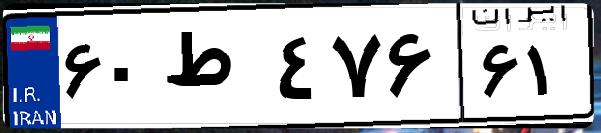0: (110, 28, 158, 98)
1: (525, 38, 570, 115)
4: (270, 28, 330, 110)
6: (385, 28, 445, 110), (57, 26, 110, 100), (475, 38, 525, 113)
7: (330, 28, 385, 110)
ط: (158, 20, 270, 120)
